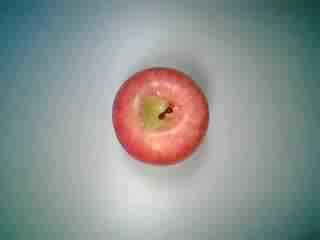apple: (108, 64, 212, 165)
